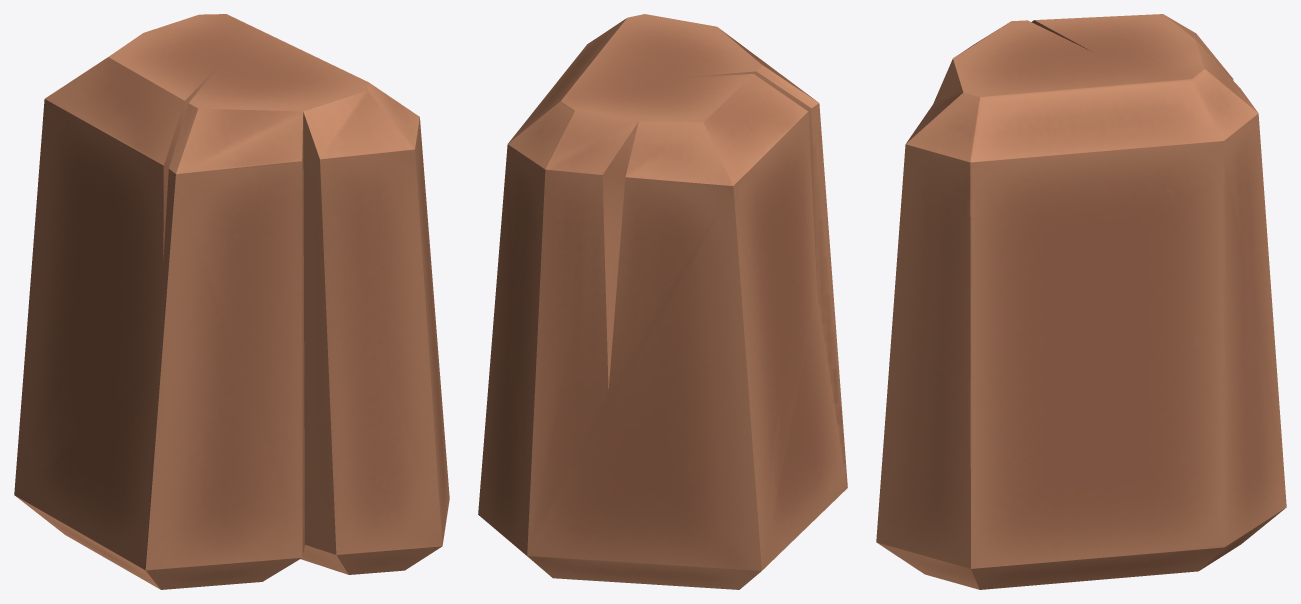
File: small_rock_03.glb
3 views of the same model, side by side, from view 1: azimuth 30°, elevation 25°; view 2: azimuth 150°, elevation 25°; view 3: azimuth 270°, elevation 25° (orthographic). The views are drawn at different scales.
Parts seen in each view (by area): view 1: Cube.004_small_rock_0; view 2: Cube.004_small_rock_0; view 3: Cube.004_small_rock_0.
Part boxes in pixels (box(x1,y1,x2,y2)): Cube.004_small_rock_0: box(14, 14, 449, 589); Cube.004_small_rock_0: box(478, 14, 847, 589); Cube.004_small_rock_0: box(876, 14, 1286, 589).
Size of the model in its own units: 1.31 by 1.82 by 1.43.
1 material, 1 textured.
